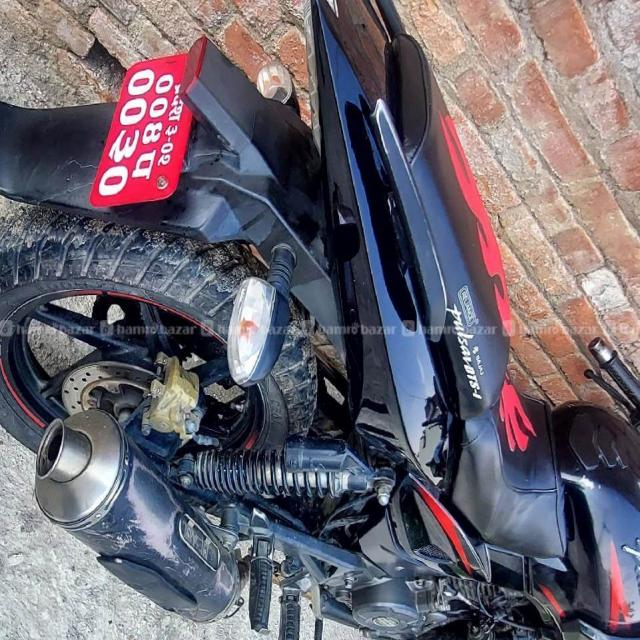License-plate: (86, 52, 202, 218)
